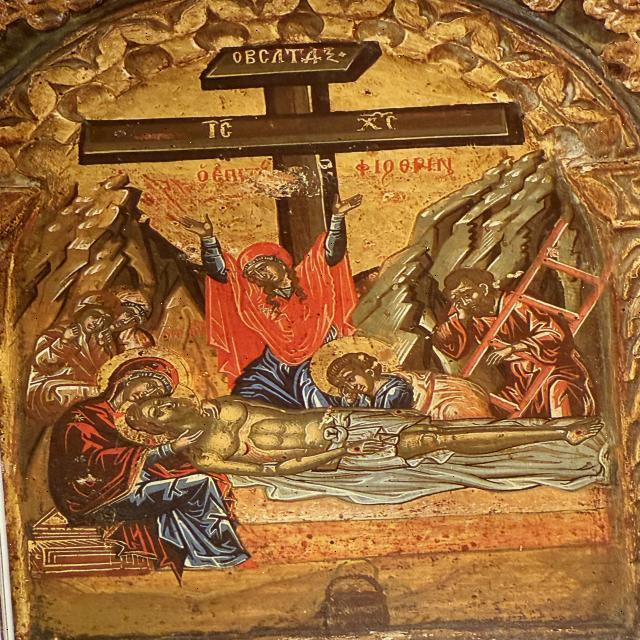aura: (307, 335, 405, 397), (89, 347, 191, 399), (118, 386, 204, 442)
christ_dead: (117, 387, 609, 477)
